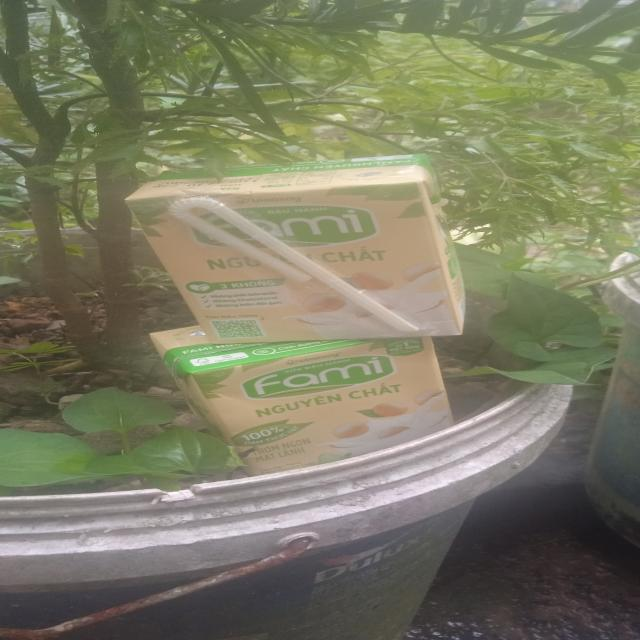Fami: (123, 155, 470, 347), (148, 325, 453, 478)
